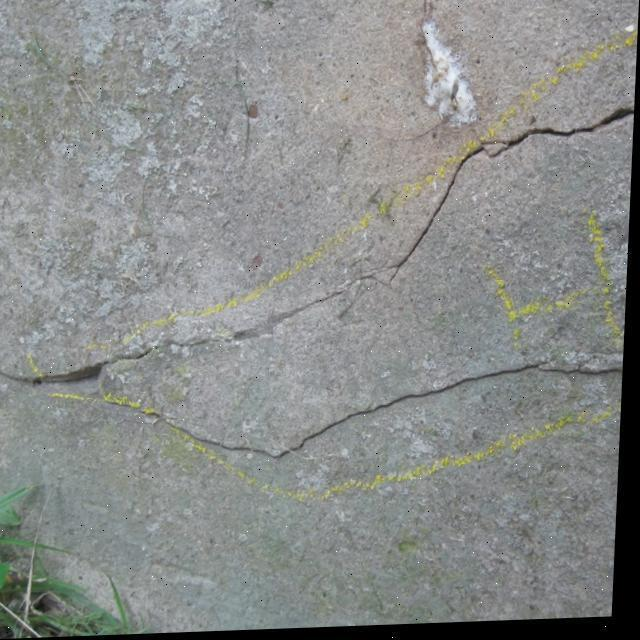D01: (422, 18, 476, 125)
